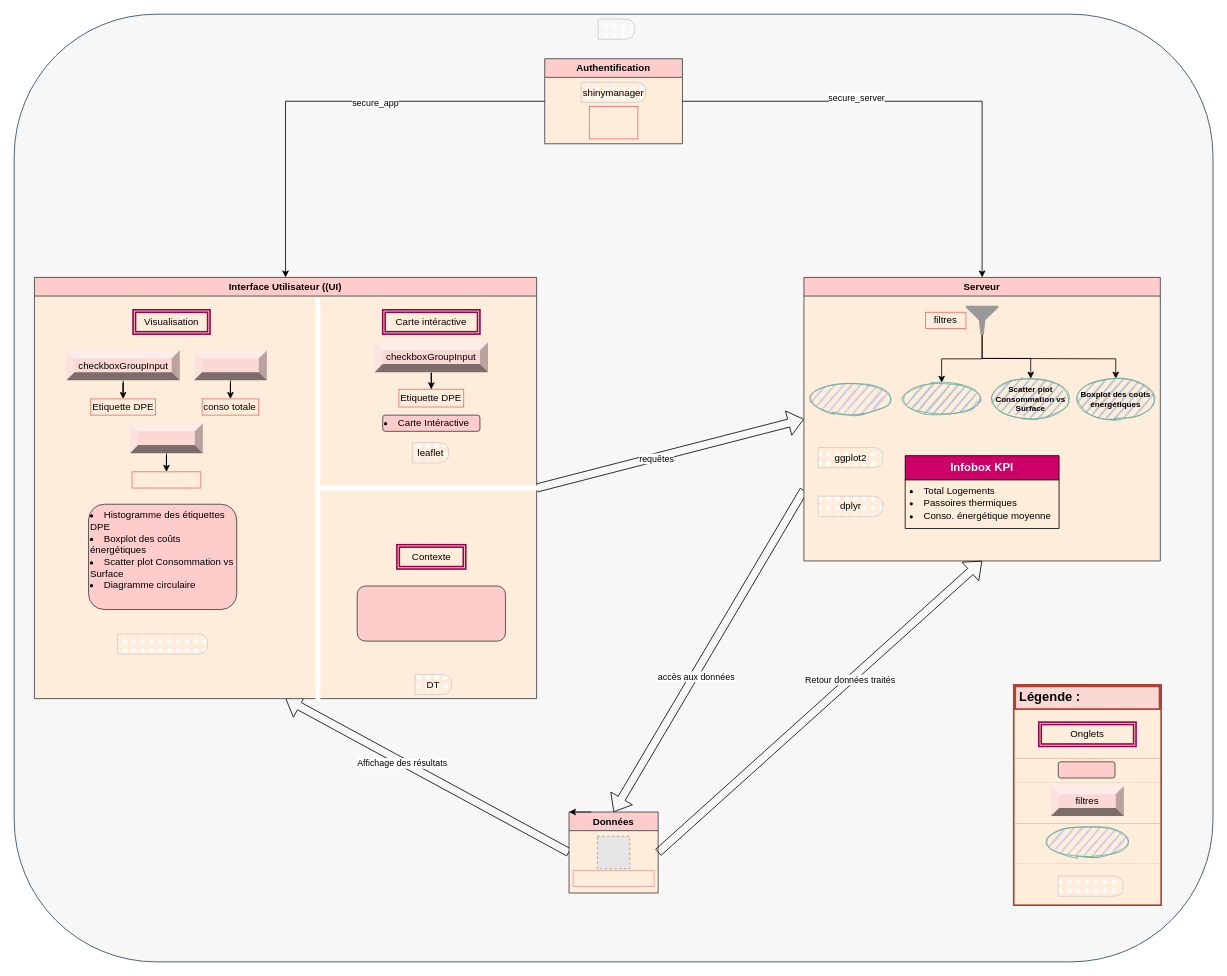
Some shapes in this 1227 by 976 pixel diagram are drawn without their labels. Grey dashed boxes stand in for pictures. Each missing label, with the centre of its shape:
Diagramme circulaire: point 850,398
fichier : DF_Finale: point 613,878
Graphique: point 1087,841
Histogramme des étiquettes DPE: point 941,398
Output: point 1086,769
Package: point 1090,885
selectInput: point 166,437
shiny: point 616,28
shinydashboard: point 162,643
sliderInput: point 230,365
Total Logements Passoires thermiques Conso. énergétique moyenne Datatable: point 430,613
Type logement: point 166,479
user password: point 613,122
